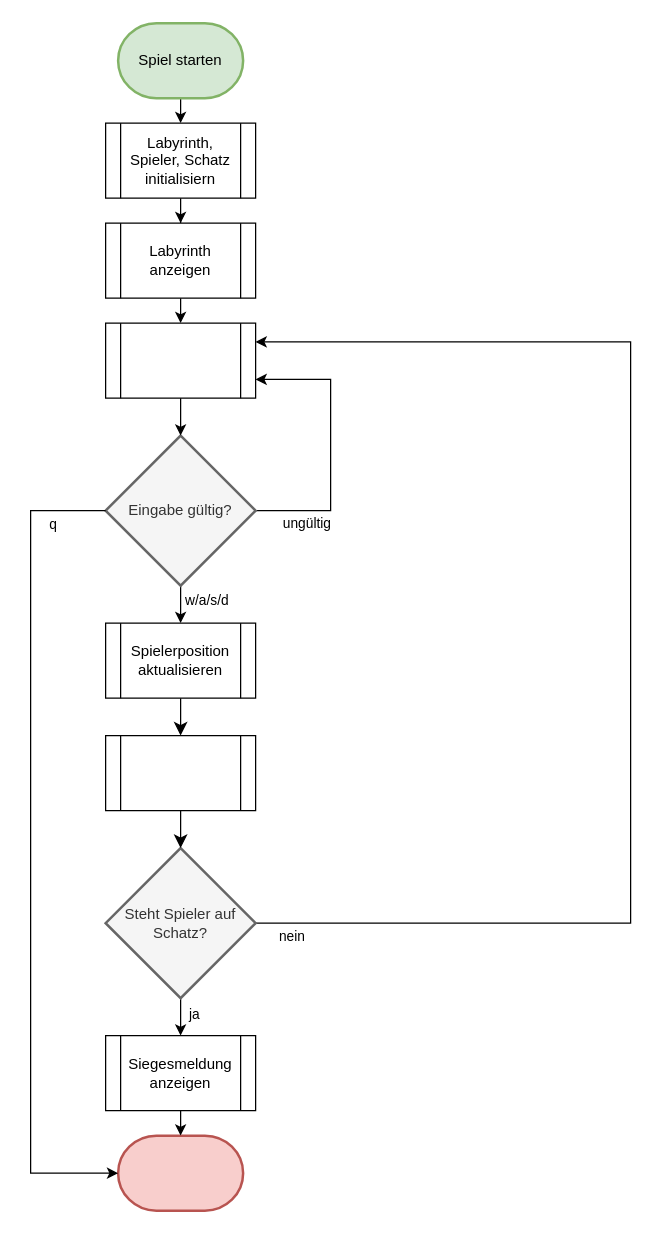
The diagram is 663 pixels wide and 1233 high, and some of its shapes have lost their labels. Here are the shapes that lost their labels. From the top down, the centre of each, then its label:
(x=180, y=360): Spielereingabe einlesen (w/a/s/d/q)
(x=180, y=772): Labyrinth neu anzeigen
(x=180, y=1172): Spiel beenden
